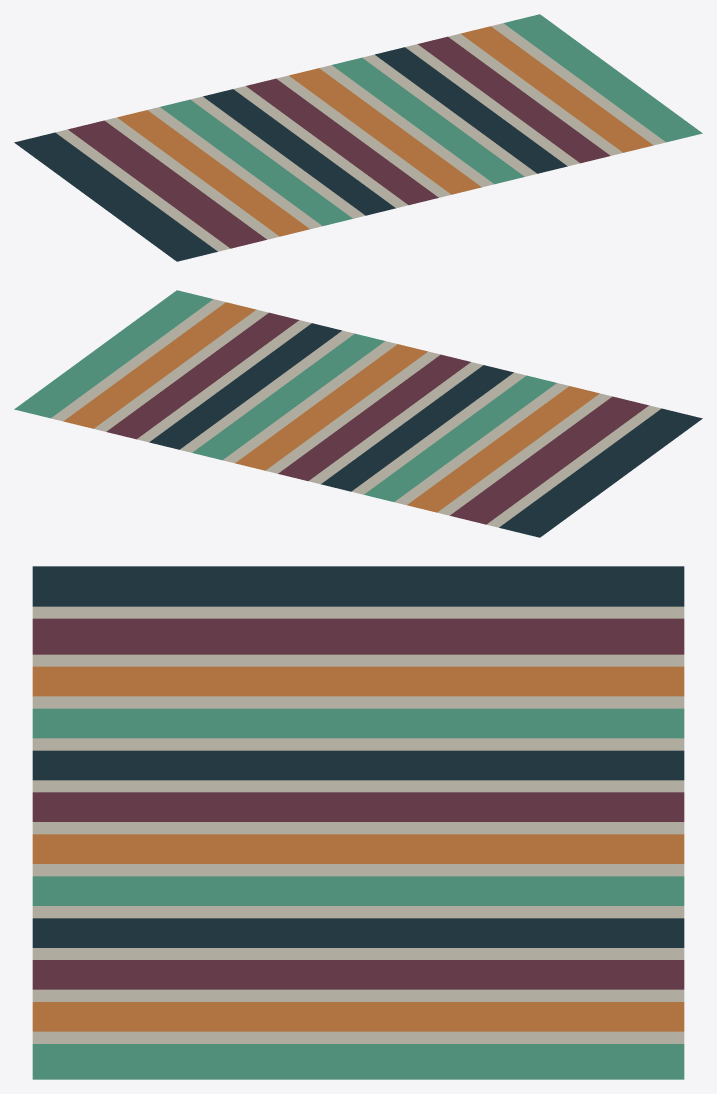
Rendered from Carpet_01.fbx.
3 renders of one model, top to bottom at view 1: azimuth 30°, elevation 25°; view 2: azimuth 150°, elevation 25°; view 3: azimuth 270°, elevation 25°, orthographic. The views are drawn at different scales.
Visible parts, largest first — view 1: Carpet_01; view 2: Carpet_01; view 3: Carpet_01.
Part boxes in pixels (x1,y1,x2,y2): Carpet_01: (14,14,702,261); Carpet_01: (14,290,702,537); Carpet_01: (32,566,684,1079).
Size of the model in its own units: 1.31 by 1.97e-11 by 0.704.
